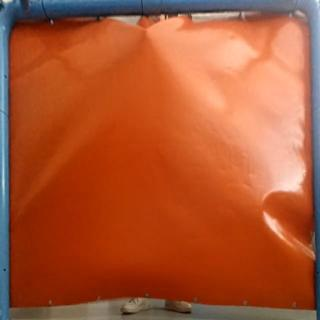Hit-hRxx: (140, 26, 156, 40)
